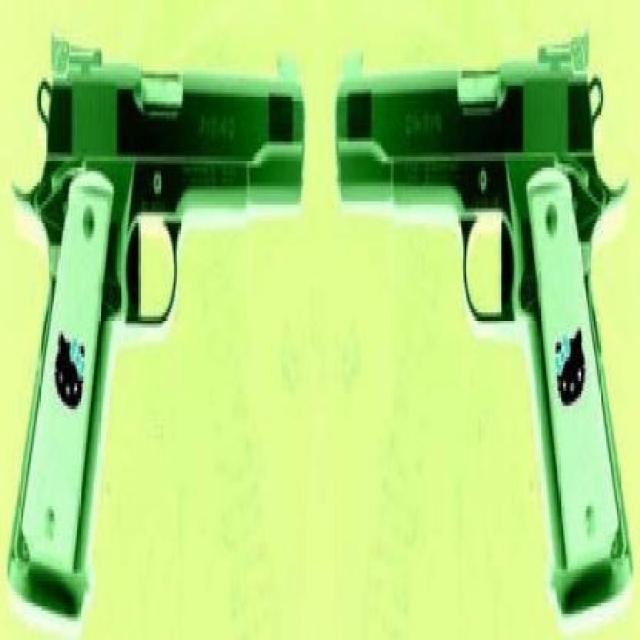gun: (1, 6, 308, 640), (324, 11, 636, 630)
